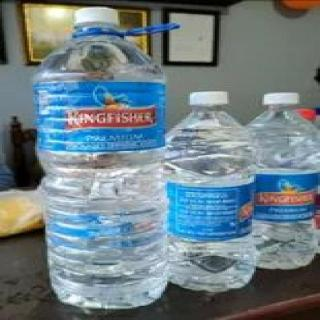Plastic-bottle: (30, 6, 174, 318), (159, 90, 261, 292), (238, 93, 320, 276)
